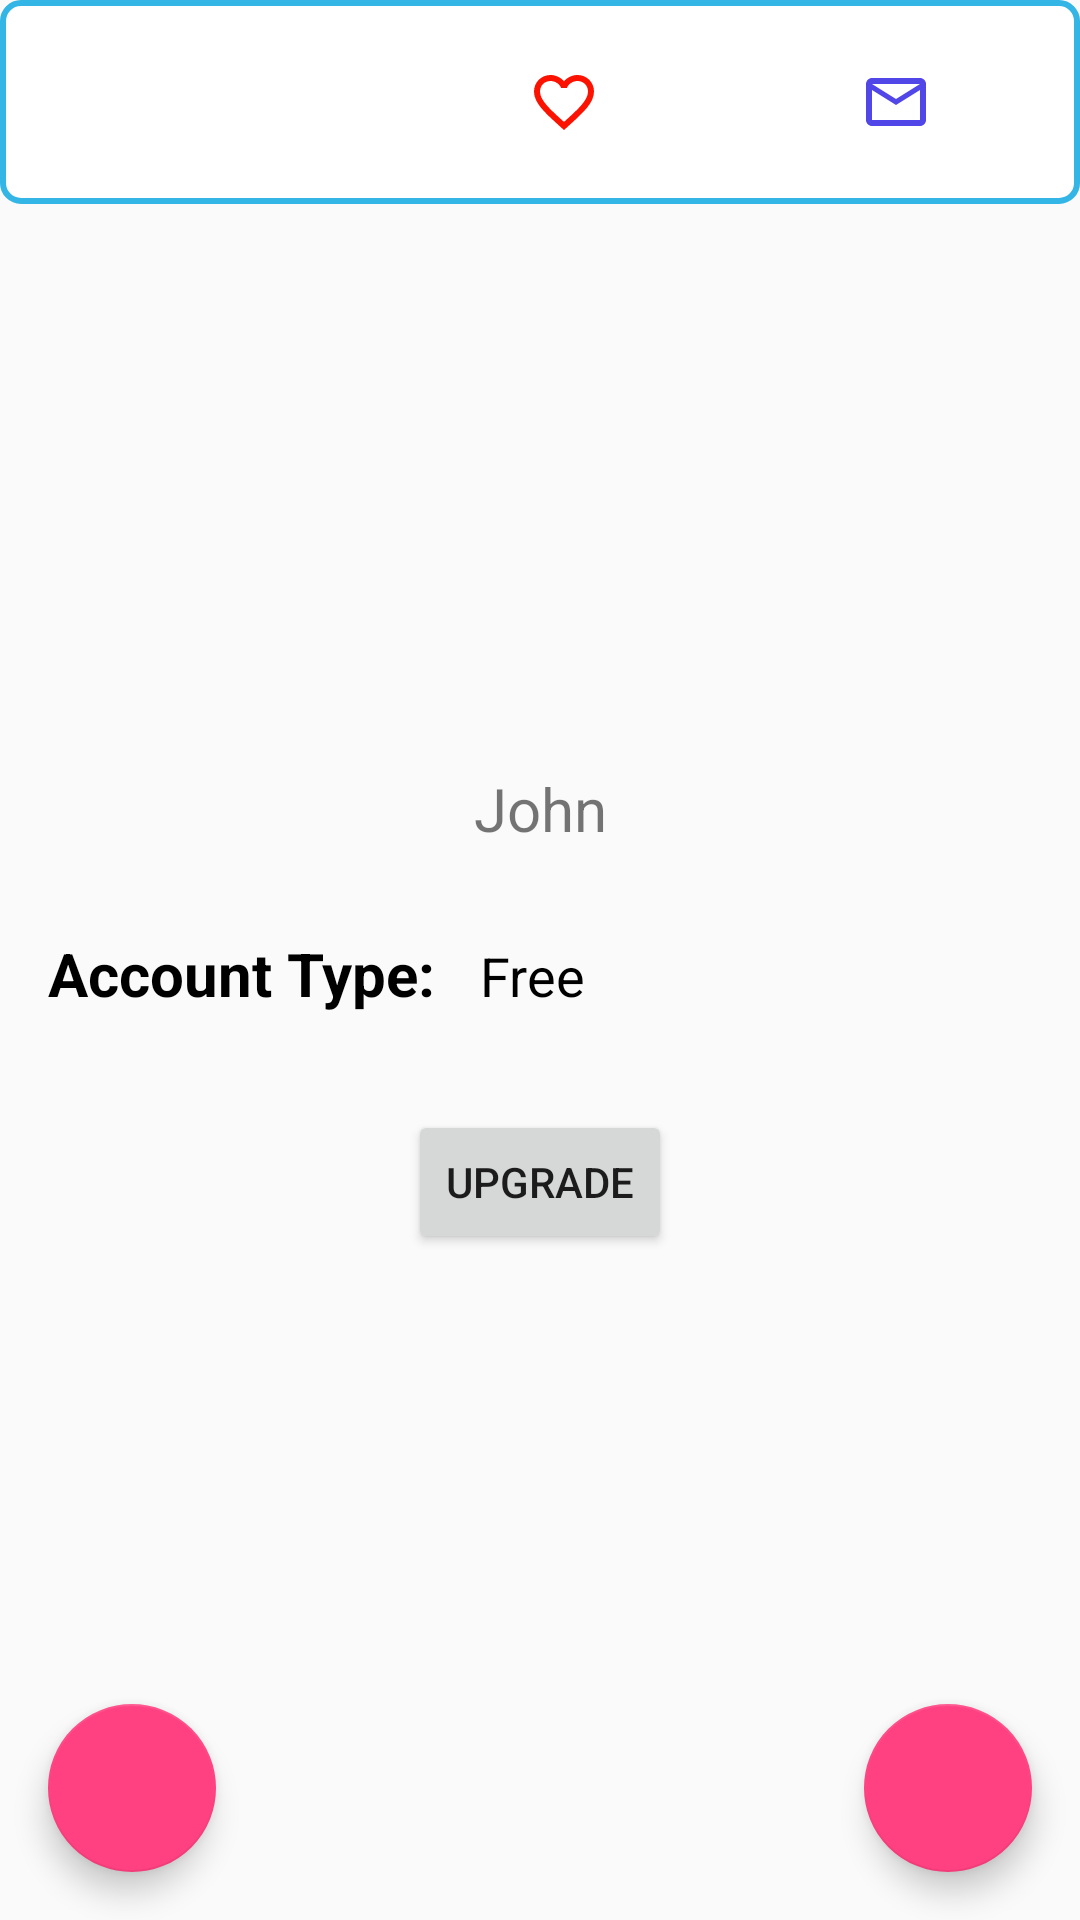

Where to tap for icons on this 1080px×1920px app screen, as (x,y):
favorite border: (564,102)
mail: (896,102)
